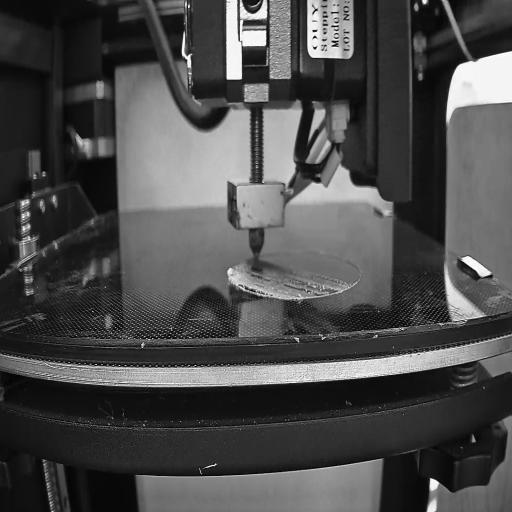under_extrusion: (285, 273, 342, 299), (236, 268, 272, 296)
